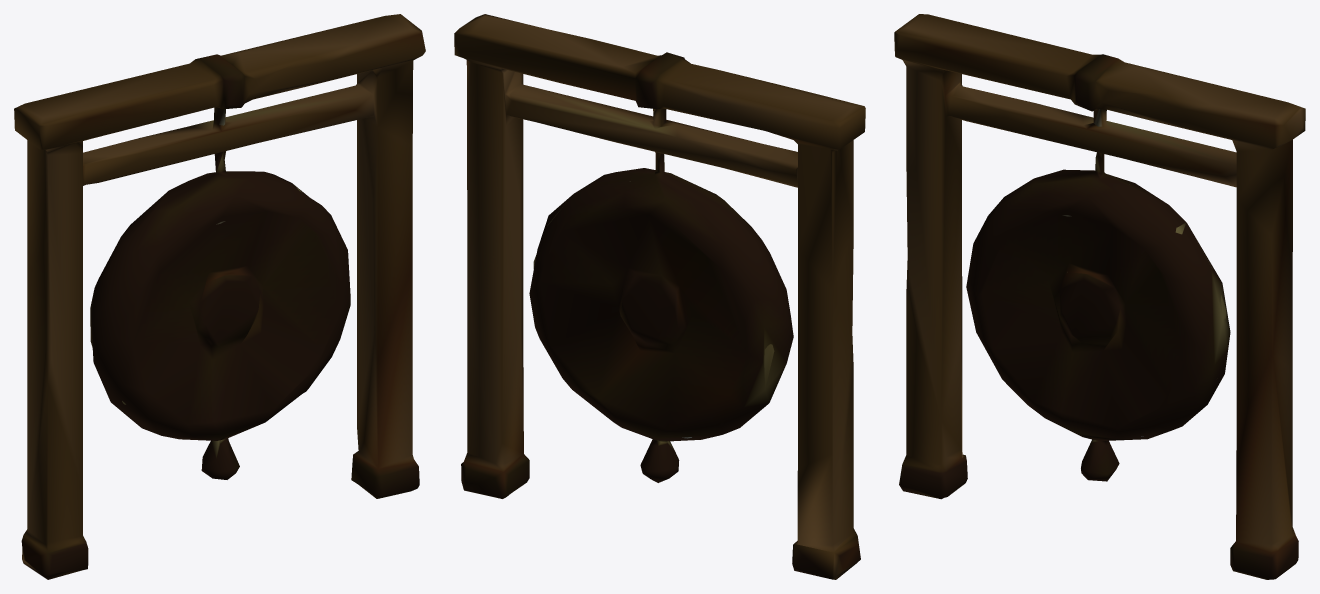
File: gen3d-gong-lod1.glb
3 views of the same model, side by side, from view 1: azimuth 30°, elevation 25°; view 2: azimuth 150°, elevation 25°; view 3: azimuth 330°, elevation 25° (orthographic).
Parts seen in each view (by area): view 1: part_0; view 2: part_0; view 3: part_0.
Part boxes in pixels (bbox=[...]): part_0: bbox=[14, 14, 425, 579]; part_0: bbox=[454, 14, 865, 579]; part_0: bbox=[894, 14, 1305, 579].
Bounding box in the file's own units: 0.8708 × 0.9977 × 0.1354.
